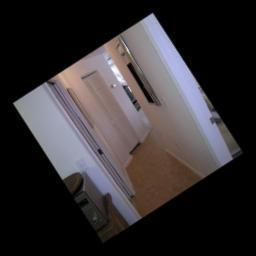Puerta: (83, 72, 141, 151)
